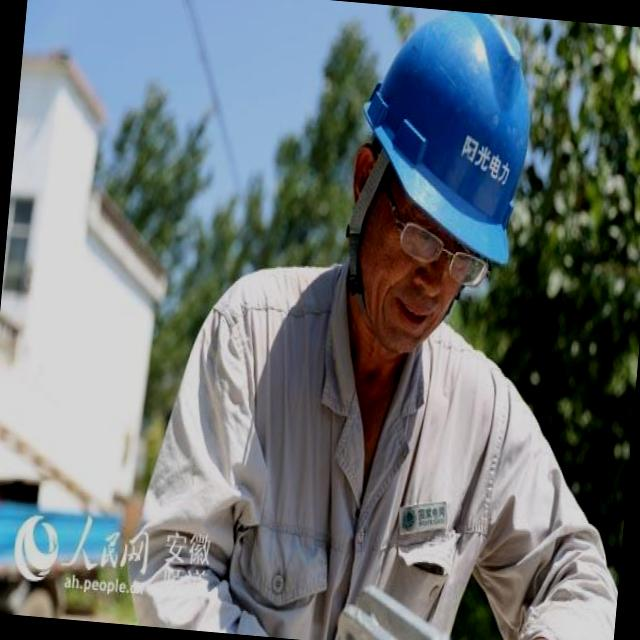helmet: (343, 19, 550, 290)
no-goggles: (352, 148, 500, 296)
no-vest: (185, 263, 509, 640)
